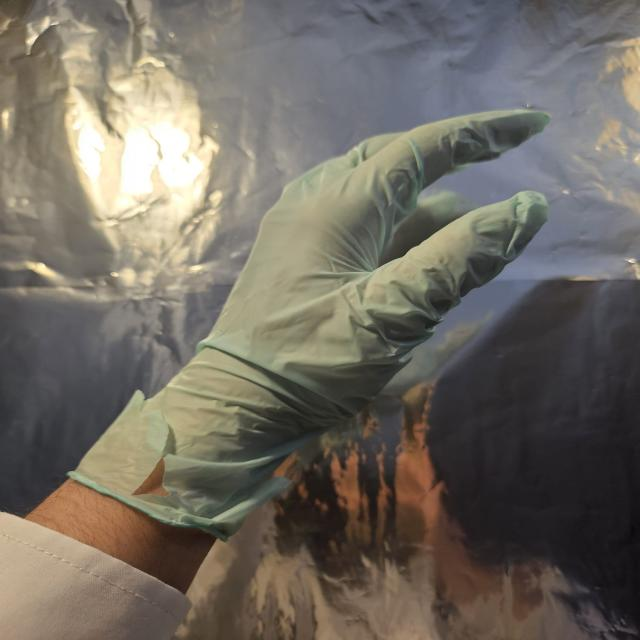gloves_damaged: (70, 103, 552, 535)
